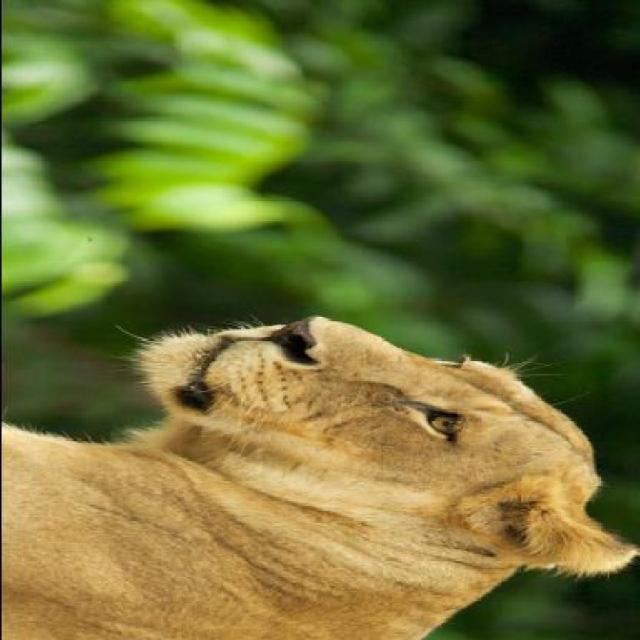Lion: (2, 298, 630, 638)
